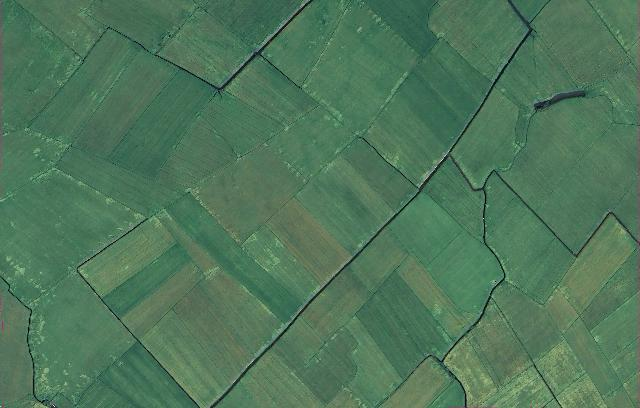Farms: (496, 99, 640, 254), (448, 30, 579, 192), (0, 168, 148, 308), (57, 116, 239, 219), (166, 192, 303, 326), (0, 0, 84, 205), (301, 0, 422, 139), (359, 56, 477, 192), (297, 138, 421, 259), (28, 272, 139, 404), (31, 29, 142, 147), (201, 53, 323, 159), (484, 171, 577, 305), (191, 142, 308, 248), (109, 69, 217, 180), (74, 50, 181, 161), (358, 271, 456, 383), (176, 276, 269, 386), (21, 1, 197, 59), (61, 338, 203, 408), (136, 307, 231, 408), (533, 0, 631, 96), (559, 212, 639, 319), (428, 0, 531, 81), (268, 197, 353, 293), (158, 7, 258, 88), (273, 315, 359, 408), (215, 348, 326, 408), (428, 227, 503, 315), (268, 107, 358, 180), (194, 0, 311, 54), (301, 264, 376, 345), (468, 300, 536, 388), (388, 193, 464, 270), (561, 317, 625, 405), (346, 313, 401, 408), (428, 36, 495, 110), (366, 0, 438, 56), (444, 333, 498, 407), (378, 357, 456, 408), (470, 365, 556, 408), (590, 295, 640, 365), (426, 381, 466, 408)
